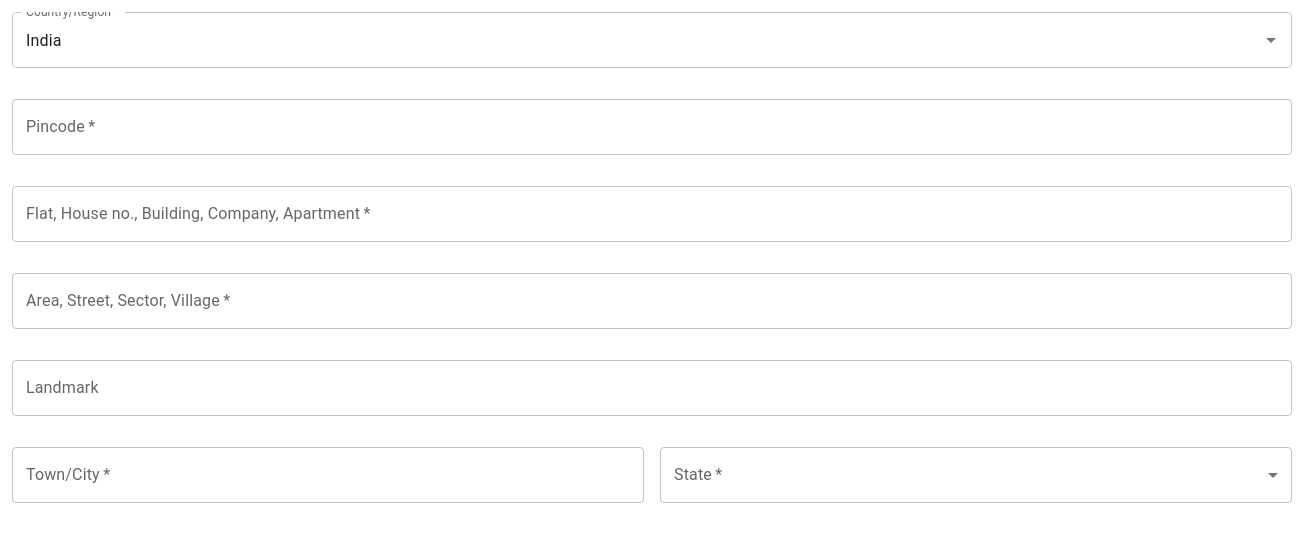
Test case: AddressFields - PIN code lookup › leaves the state to the person when the PIN code spans two states
Type "396230" into the field labelled "Pincode *". click: (652, 127)
box: [12, 99, 1292, 155]
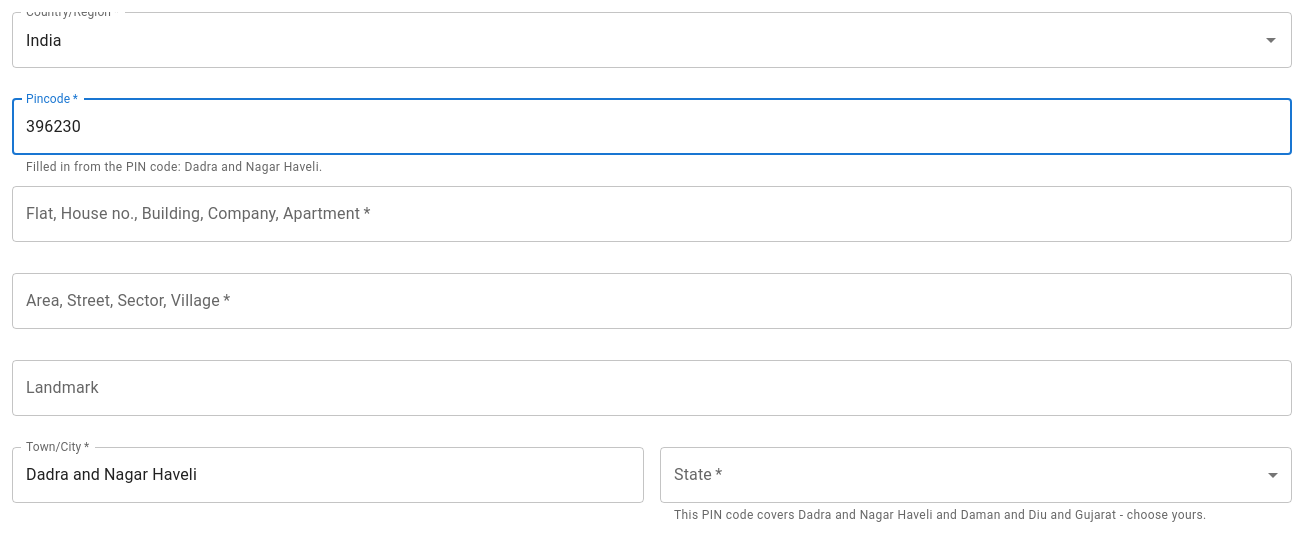
Now the text "covers Dadra and Nagar Haveli and Daman and Diu and Gujarat" is shown, box [674, 508, 1207, 522]
